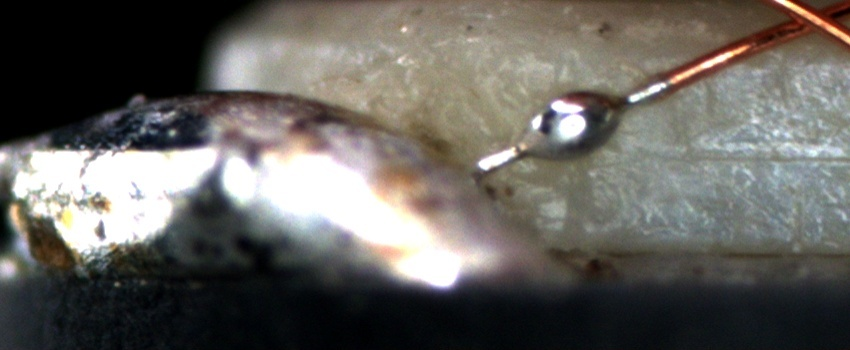CL: (763, 1, 848, 44)
DL: (524, 50, 850, 87), (648, 128, 850, 183)
TB: (524, 86, 623, 165)
TS: (476, 79, 667, 177)
TTCW: (471, 56, 707, 181)
